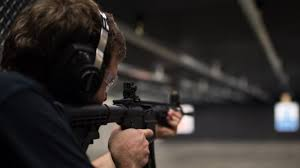gun: (51, 79, 183, 166)
